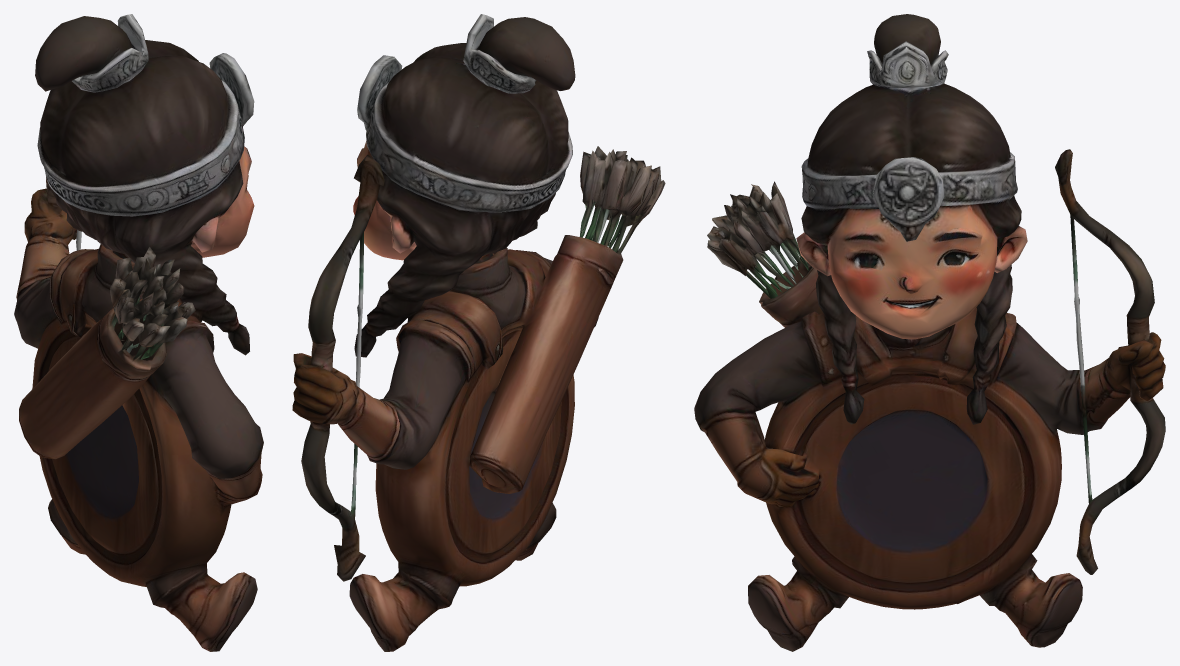
Rendered from n_w15_yuan_archer.glb.
3 views of the same model, side by side, from view 1: azimuth 30°, elevation 25°; view 2: azimuth 150°, elevation 25°; view 3: azimuth 270°, elevation 25° (orthographic).
Parts seen in each view (by area): view 1: tripo_node_811d961c-7bc8-4b55-aa8a-f592983befdd; view 2: tripo_node_811d961c-7bc8-4b55-aa8a-f592983befdd; view 3: tripo_node_811d961c-7bc8-4b55-aa8a-f592983befdd.
Boxes of the visible parts, left/top/right/bottom form: tripo_node_811d961c-7bc8-4b55-aa8a-f592983befdd: left=14, top=14, right=263, bottom=651; tripo_node_811d961c-7bc8-4b55-aa8a-f592983befdd: left=292, top=14, right=665, bottom=651; tripo_node_811d961c-7bc8-4b55-aa8a-f592983befdd: left=694, top=14, right=1165, bottom=651.
Bounding box in the file's own units: 0.3589 × 1 × 0.7161.
1 material, 1 textured.
